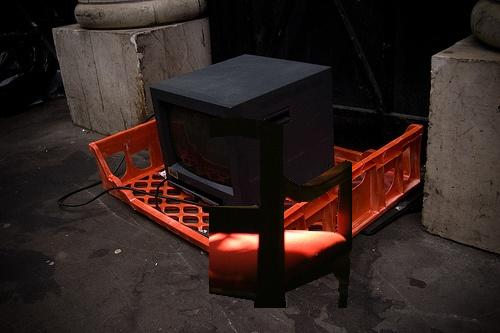tampered: (210, 118, 352, 308)
